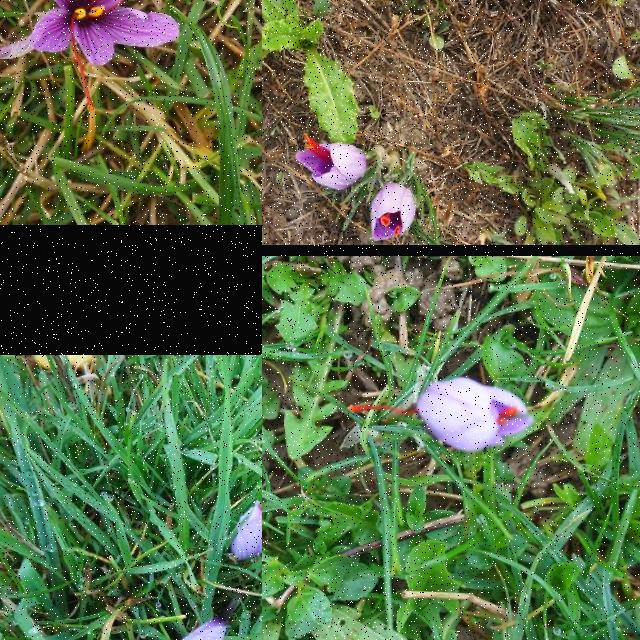flower: (28, 0, 191, 110), (348, 376, 534, 452), (294, 132, 368, 192), (372, 182, 416, 242), (231, 494, 262, 564), (156, 611, 229, 640)
